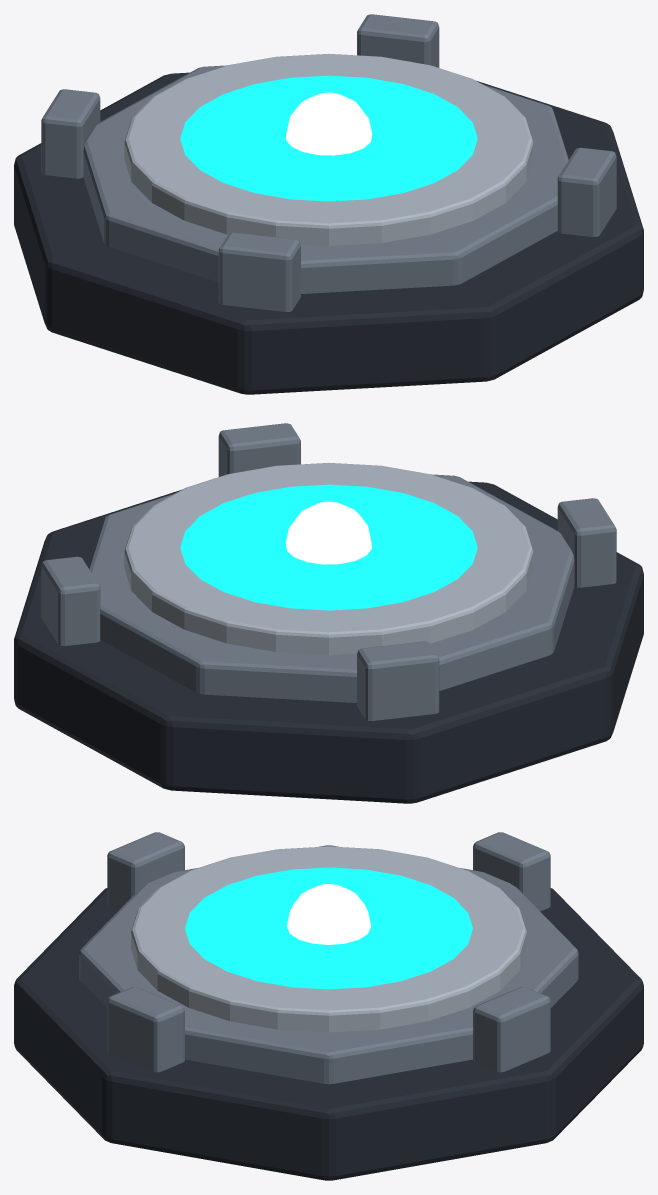
Rendered from holo_projector_pedestal.glb.
3 renders of one model, top to bottom at view 1: azimuth 30°, elevation 25°; view 2: azimuth 150°, elevation 25°; view 3: azimuth 270°, elevation 25°, orthographic. The views are drawn at different scales.
Parts seen in each view (by area): view 1: Pedestal_Base, Emitter_Rim, Pedestal_Tier2, Core_Lens, Stabilizer_2, Stabilizer_3, Focus_Node, Stabilizer_1, Stabilizer_0; view 2: Pedestal_Base, Emitter_Rim, Pedestal_Tier2, Core_Lens, Stabilizer_1, Stabilizer_0, Focus_Node, Stabilizer_2, Stabilizer_3; view 3: Pedestal_Base, Emitter_Rim, Pedestal_Tier2, Core_Lens, Stabilizer_0, Stabilizer_3, Focus_Node, Stabilizer_1, Stabilizer_2.
Boxes of the visible parts, bbox=[...] form: Pedestal_Base: bbox=[14, 72, 643, 394]; Emitter_Rim: bbox=[124, 54, 533, 245]; Pedestal_Tier2: bbox=[83, 61, 568, 293]; Core_Lens: bbox=[180, 75, 477, 201]; Stabilizer_2: bbox=[218, 232, 300, 311]; Stabilizer_3: bbox=[557, 147, 616, 236]; Focus_Node: bbox=[285, 92, 372, 155]; Stabilizer_1: bbox=[41, 89, 100, 178]; Stabilizer_0: bbox=[357, 14, 439, 67]; Pedestal_Base: bbox=[14, 481, 643, 803]; Emitter_Rim: bbox=[124, 463, 533, 654]; Pedestal_Tier2: bbox=[89, 470, 574, 702]; Core_Lens: bbox=[180, 484, 477, 610]; Stabilizer_1: bbox=[357, 641, 439, 720]; Stabilizer_0: bbox=[41, 556, 100, 645]; Focus_Node: bbox=[285, 501, 372, 564]; Stabilizer_2: bbox=[557, 498, 616, 587]; Stabilizer_3: bbox=[218, 423, 300, 476]; Pedestal_Base: bbox=[14, 888, 643, 1180]; Emitter_Rim: bbox=[131, 846, 526, 1032]; Pedestal_Tier2: bbox=[79, 845, 578, 1084]; Core_Lens: bbox=[185, 867, 472, 989]; Stabilizer_0: bbox=[473, 987, 550, 1072]; Stabilizer_3: bbox=[107, 987, 184, 1072]; Focus_Node: bbox=[287, 884, 370, 944]; Stabilizer_1: bbox=[473, 832, 550, 911]; Stabilizer_2: bbox=[107, 832, 184, 911].
Size of the model in its own units: 2.39 by 0.68 by 2.39.
